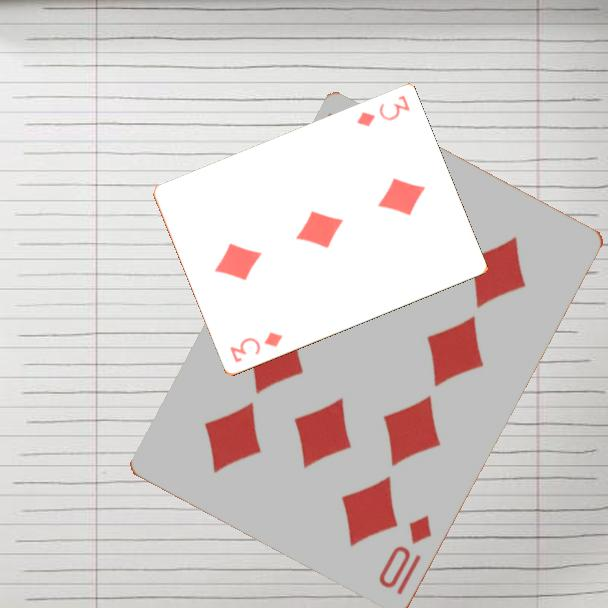d03: (353, 92, 413, 130), (226, 328, 285, 366)
d10: (375, 512, 435, 599)
